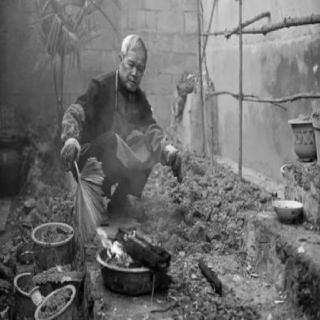Fire: (94, 215, 138, 269)
